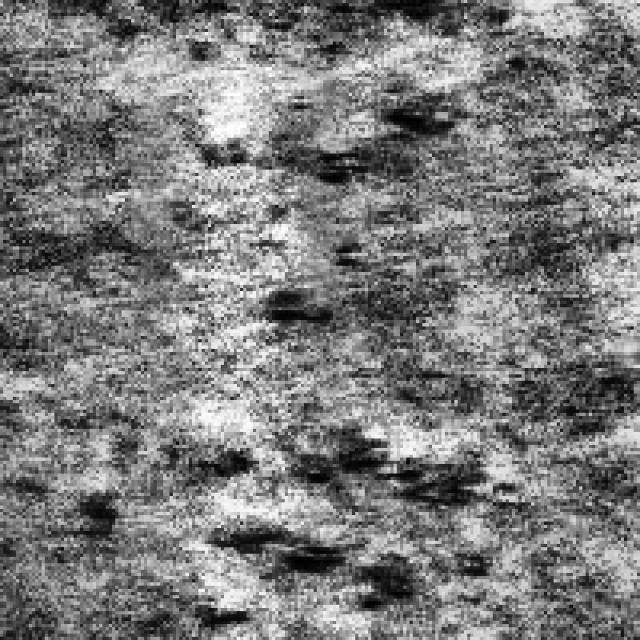Crazing: (256, 36, 445, 327), (195, 426, 480, 592)
